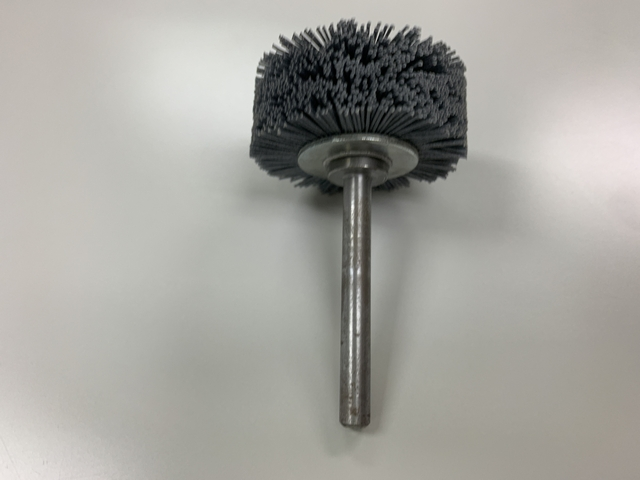Wheel Brush: (237, 10, 475, 456), (245, 25, 473, 450), (251, 16, 470, 369)
